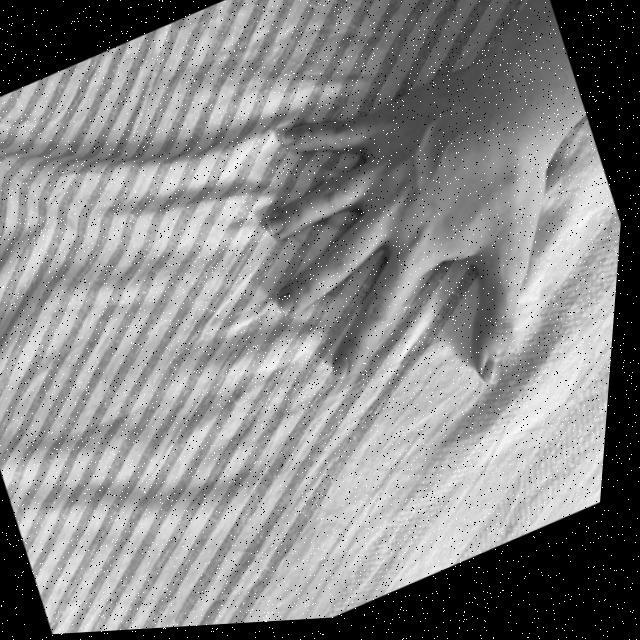no-gloves: (209, 5, 638, 467)
